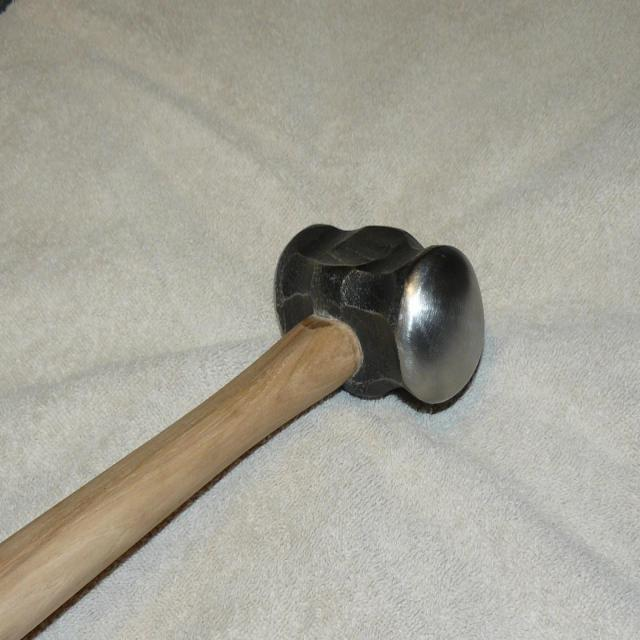hammer: (0, 212, 490, 640)
